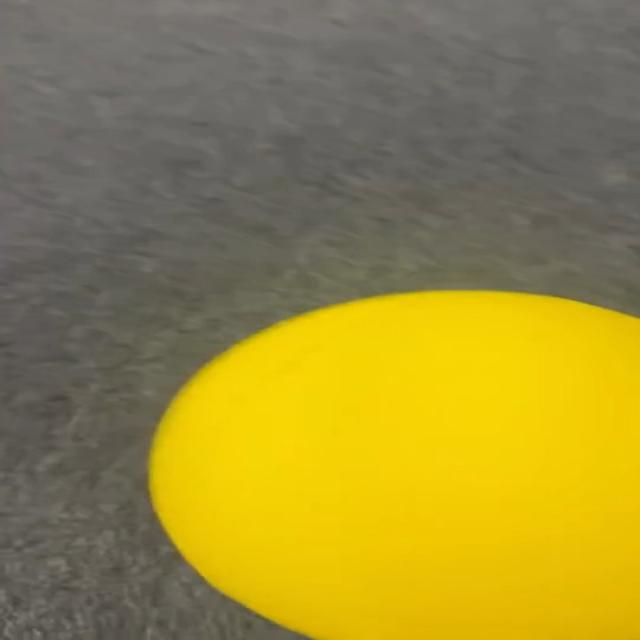Fuels: (149, 288, 639, 637)
